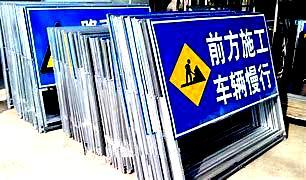sign: (157, 15, 282, 126)
